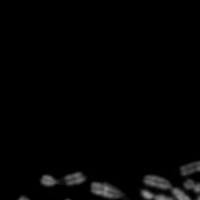chromosome: (143, 175, 200, 200), (90, 181, 122, 198), (142, 189, 179, 200), (180, 158, 200, 175), (65, 172, 85, 186), (184, 180, 200, 192), (42, 175, 58, 186), (7, 196, 29, 200), (197, 184, 200, 200), (35, 199, 72, 200)
